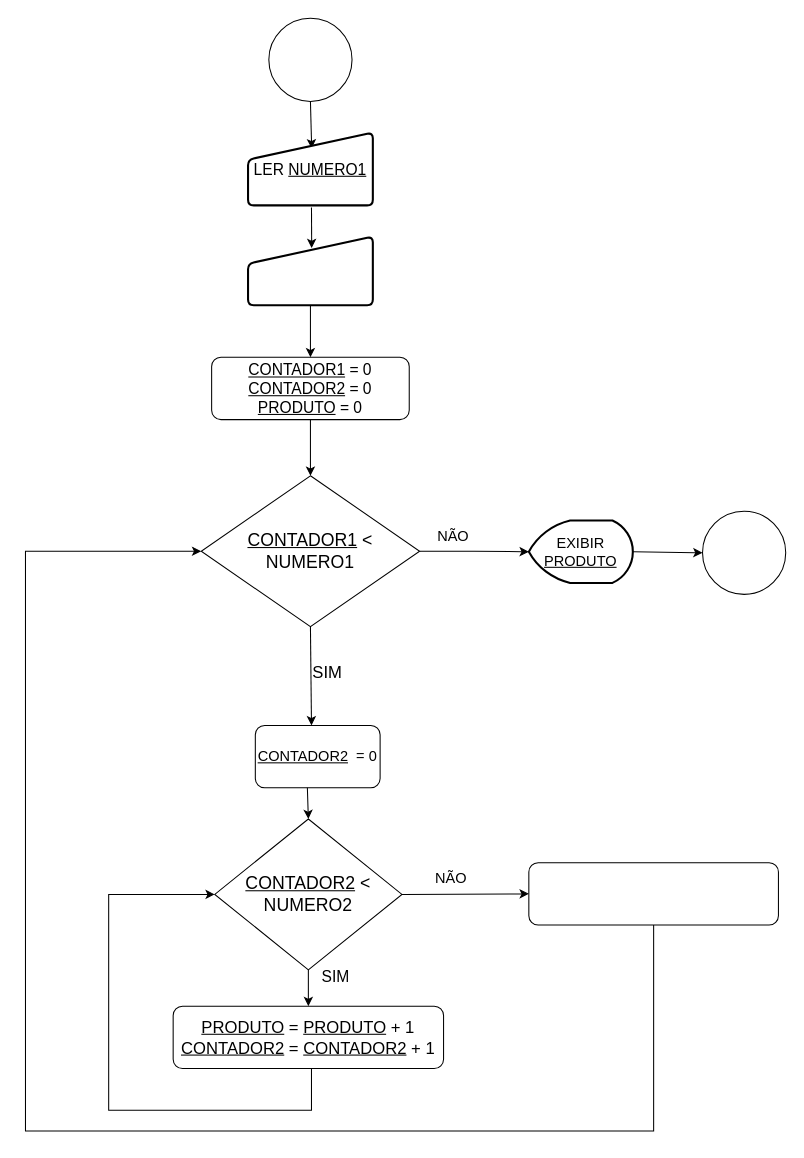
Image size: 804x1158. Some labels were removed from this diagram. Here are the shapes that lost their labels. From the top down, the box of each, then its label:
(268, 17, 352, 101): INÍCIO
(246, 235, 373, 306): LER NUMERO2
(701, 510, 786, 594): FIM
(528, 862, 778, 925): CONTADOR1 = CONTADOR1 + 1
